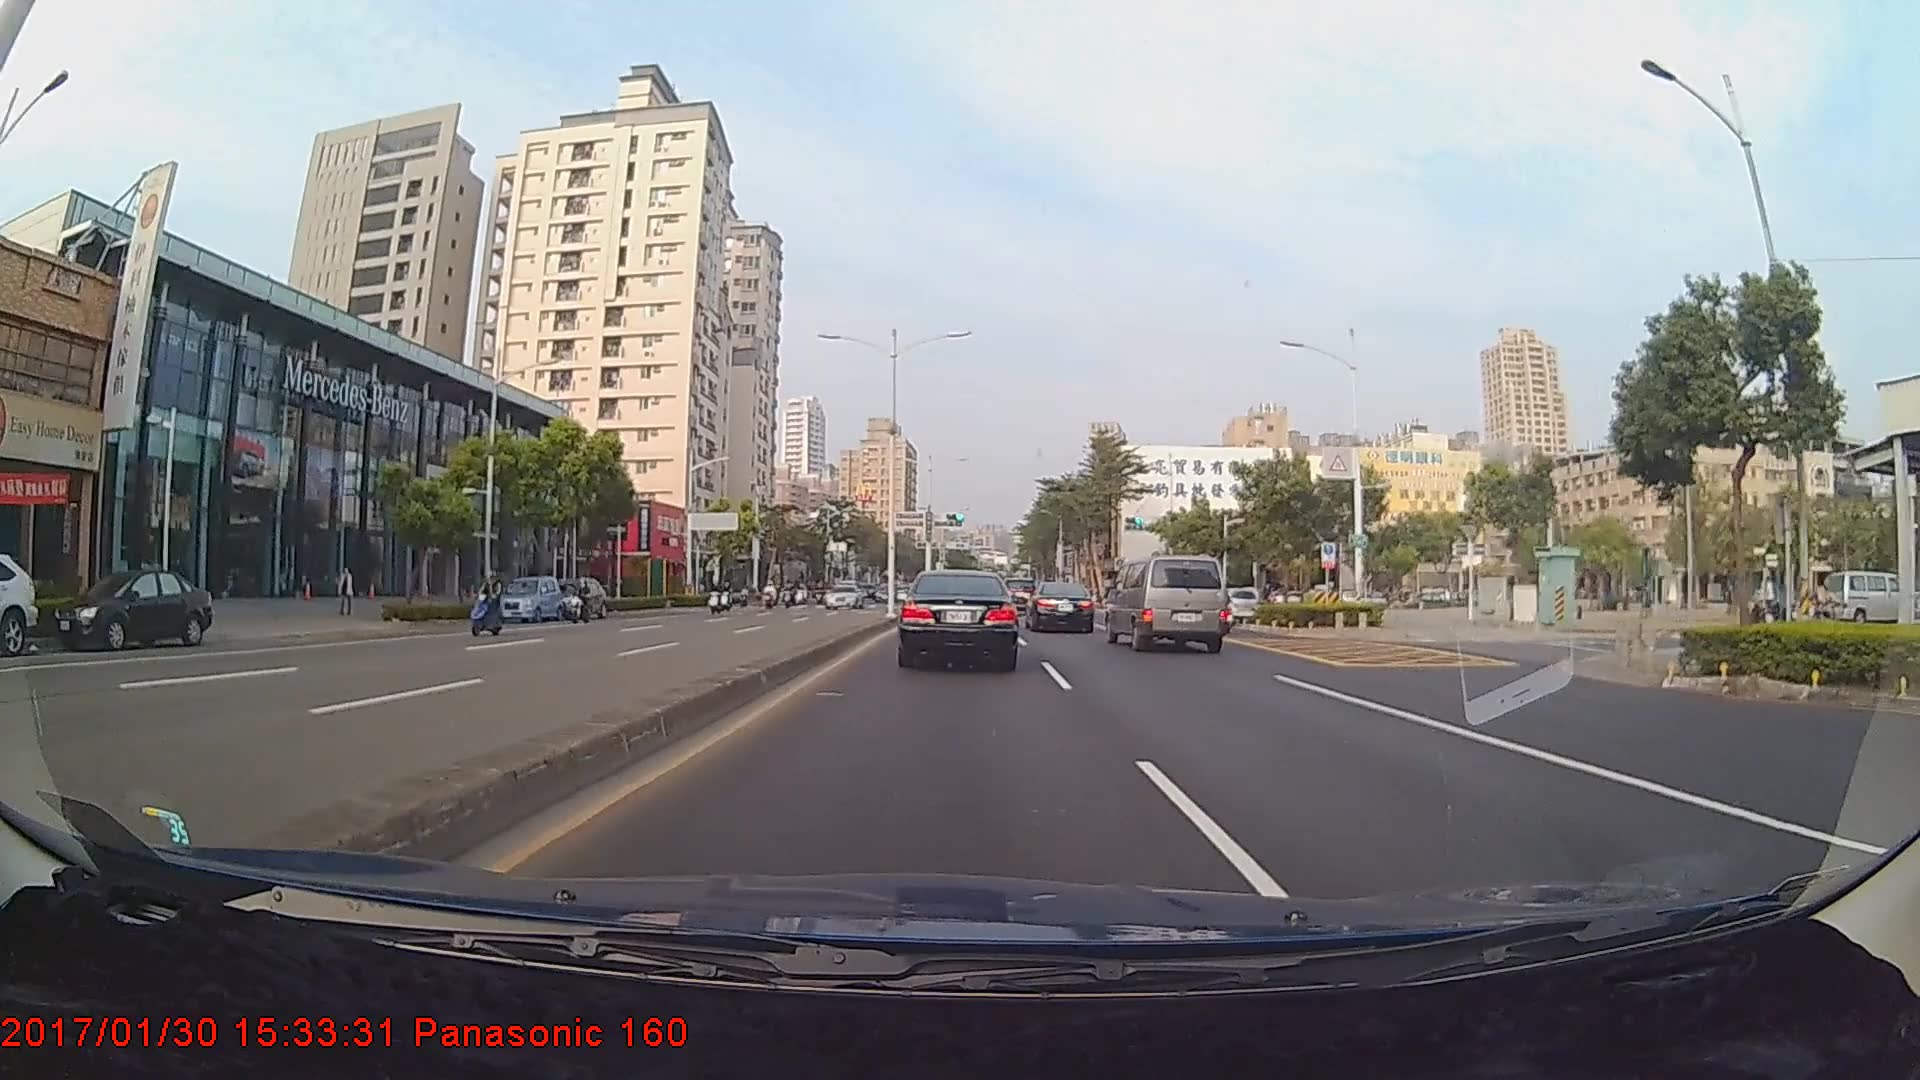pedestrian: (336, 566, 358, 622)
rider: (469, 563, 512, 642), (568, 581, 601, 628)
vehicle: (51, 567, 210, 651), (900, 565, 1016, 670), (1108, 553, 1227, 653), (1026, 581, 1096, 634), (495, 577, 563, 625), (548, 576, 604, 622), (821, 581, 860, 609)
